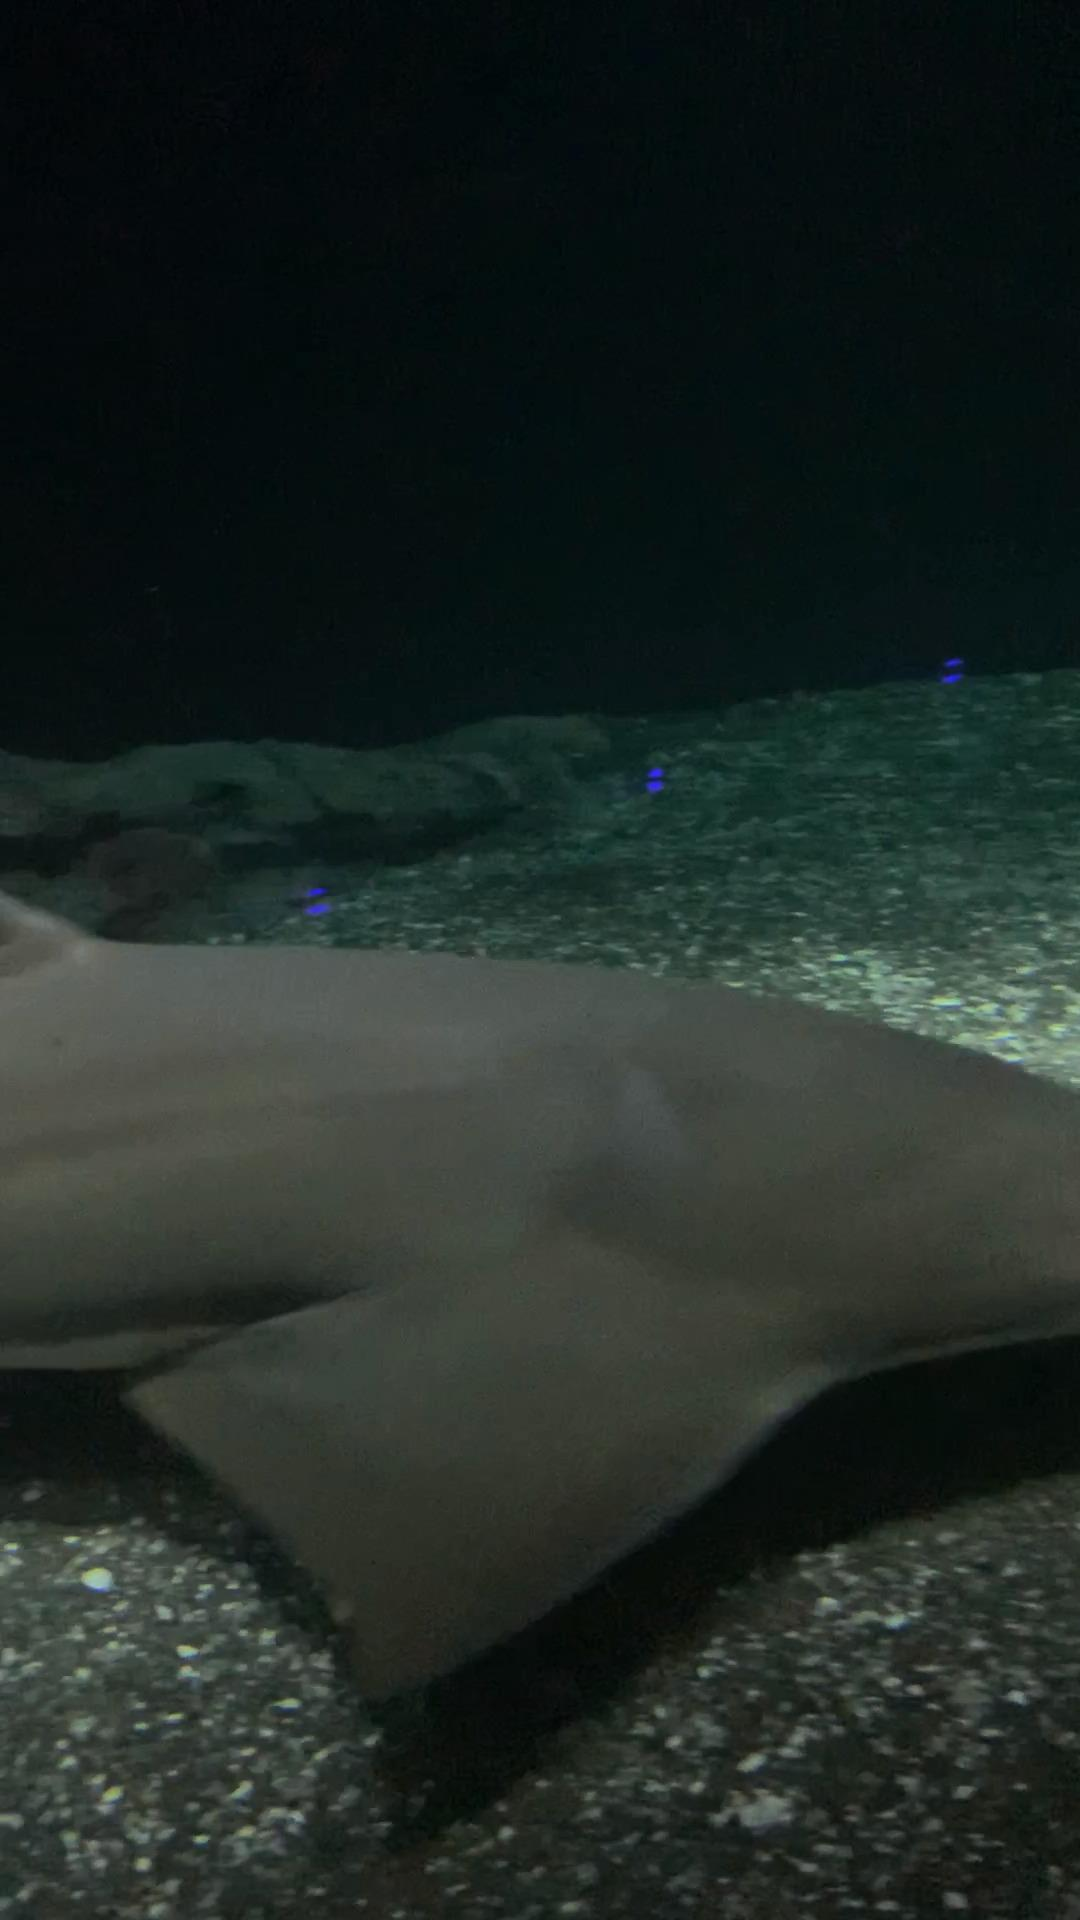shark: (0, 880, 1080, 1733)
